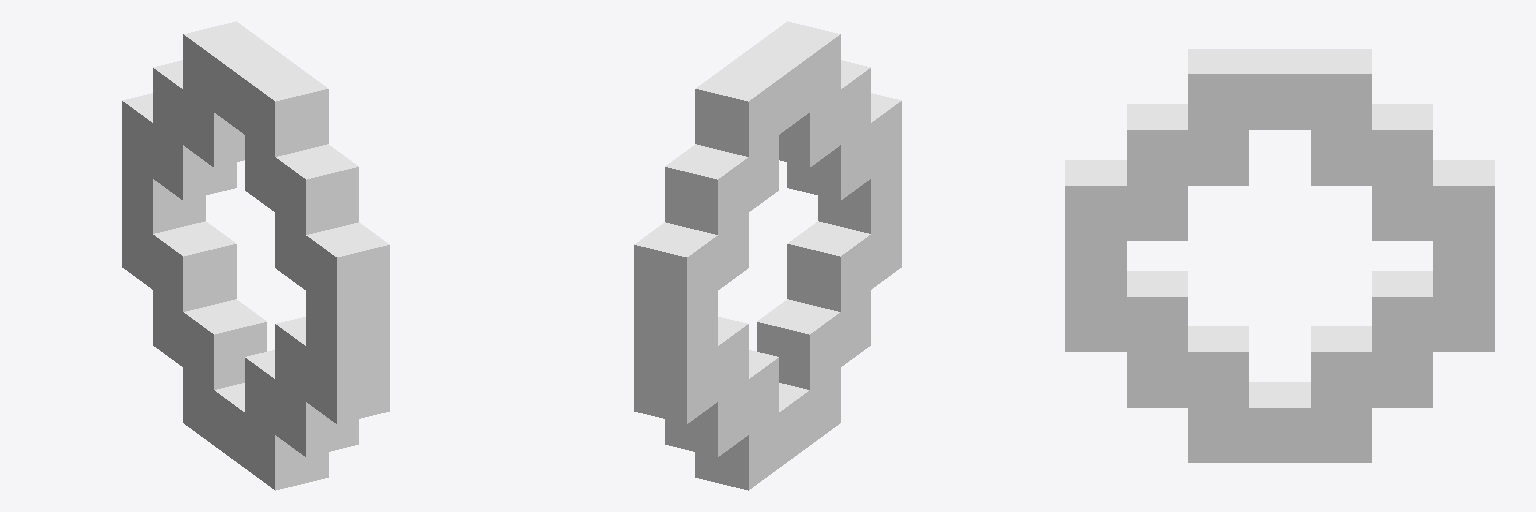
File: Pin.obj
The picture shows the model from 3 angles: view 1: azimuth 30°, elevation 25°; view 2: azimuth 150°, elevation 25°; view 3: azimuth 270°, elevation 25°; orthographic projection.
Visible parts, largest first — view 1: object 1; view 2: object 1; view 3: object 1.
Boxes of the visible parts, <box> form: object 1: <box>122,21,389,490</box>; object 1: <box>634,21,901,490</box>; object 1: <box>1065,49,1494,462</box>.
Bounding box in the file's own units: 0.1 × 0.7 × 0.7.